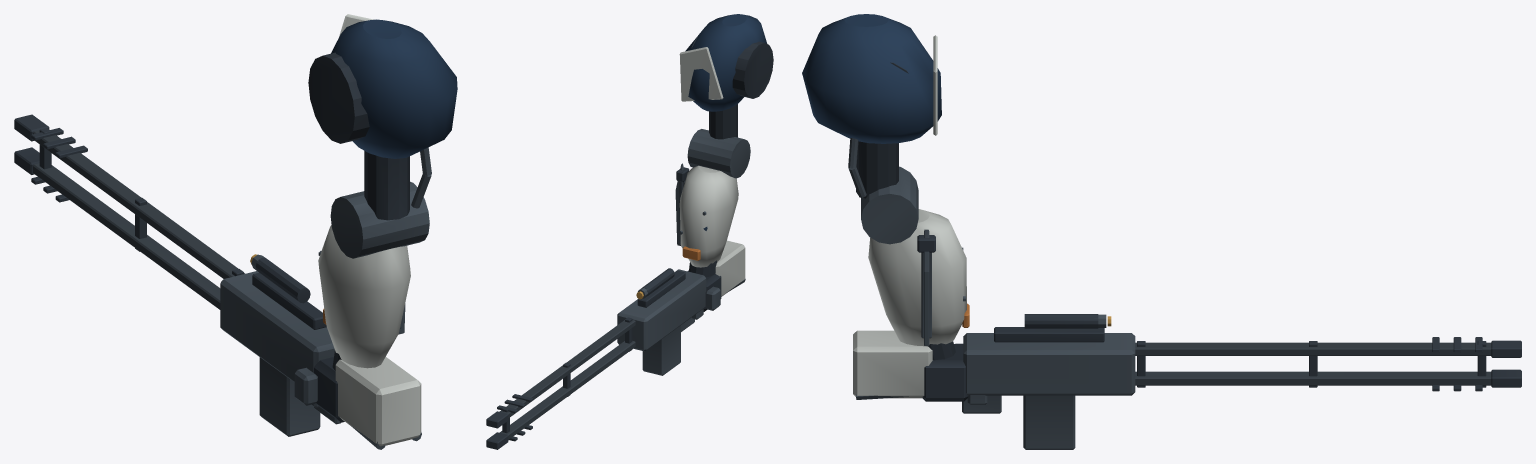
Rendered from right_arm.glb.
3 renders of one model, left to right at view 1: azimuth 30°, elevation 25°; view 2: azimuth 150°, elevation 25°; view 3: azimuth 270°, elevation 25°, orthographic. The views are drawn at different scales.
Parts seen in each view (by area): view 1: R_Shoulder_fairing, R_Forearm_fairing, LR3_Receiver, LR3_Capacitor_stock, R_Elbow_pin, LR3_Linear_rail, R_Shoulder_gimbal, LR3_Linear_rail.001, LR3_Magazine, R_Humerus, LR3_Sight_rail, R_Palm (+4 smaller); view 2: R_Forearm_fairing, R_Shoulder_fairing, LR3_Receiver, R_Elbow_pin, R_Shoulder_gimbal, LR3_Linear_rail, LR3_Linear_rail.001, R_Shoulder_white, LR3_Magazine, LR3_Capacitor_stock, R_Humerus, LR3_Sight_rail (+3 smaller); view 3: R_Shoulder_fairing, LR3_Receiver, R_Forearm_fairing, LR3_Linear_rail, LR3_Linear_rail.001, LR3_Capacitor_stock, R_Elbow_pin, LR3_Magazine, R_Palm, R_Humerus, LR3_Sight_rail, LR3_Optic.
Boxes of the visible parts, x1,y1,x2,y2 form: R_Shoulder_fairing: (331, 19, 457, 158); R_Forearm_fairing: (318, 225, 410, 368); LR3_Receiver: (220, 271, 334, 382); LR3_Capacitor_stock: (335, 357, 421, 446); R_Elbow_pin: (330, 181, 429, 258); LR3_Linear_rail: (33, 163, 220, 309); R_Shoulder_gimbal: (308, 52, 369, 143); LR3_Linear_rail.001: (33, 130, 244, 278); LR3_Magazine: (259, 357, 320, 436); R_Humerus: (364, 151, 409, 220); LR3_Sight_rail: (252, 273, 326, 329); R_Palm: (314, 357, 344, 422); R_Forearm_fairing: (679, 165, 738, 267); R_Shoulder_fairing: (685, 14, 767, 111); LR3_Receiver: (617, 269, 706, 351); R_Elbow_pin: (687, 129, 750, 178); R_Shoulder_gimbal: (691, 36, 773, 98); LR3_Linear_rail: (499, 341, 635, 439); LR3_Linear_rail.001: (499, 320, 635, 418); R_Shoulder_white: (679, 47, 723, 101); LR3_Magazine: (642, 325, 680, 375); LR3_Capacitor_stock: (715, 240, 745, 296); R_Humerus: (709, 104, 737, 139); LR3_Sight_rail: (637, 270, 685, 307); R_Shoulder_fairing: (802, 14, 941, 143); LR3_Receiver: (963, 333, 1135, 395); R_Forearm_fairing: (868, 209, 966, 346); LR3_Linear_rail: (1135, 371, 1491, 385); LR3_Linear_rail.001: (1135, 342, 1491, 355); LR3_Capacitor_stock: (853, 330, 932, 398); R_Elbow_pin: (861, 166, 918, 244); LR3_Magazine: (1023, 395, 1075, 449); R_Palm: (922, 344, 968, 401); R_Humerus: (856, 141, 898, 198); LR3_Sight_rail: (994, 327, 1104, 342); LR3_Optic: (1024, 314, 1098, 328).
Bounding box in the file's own units: 0.172 × 0.6995 × 1.09.
